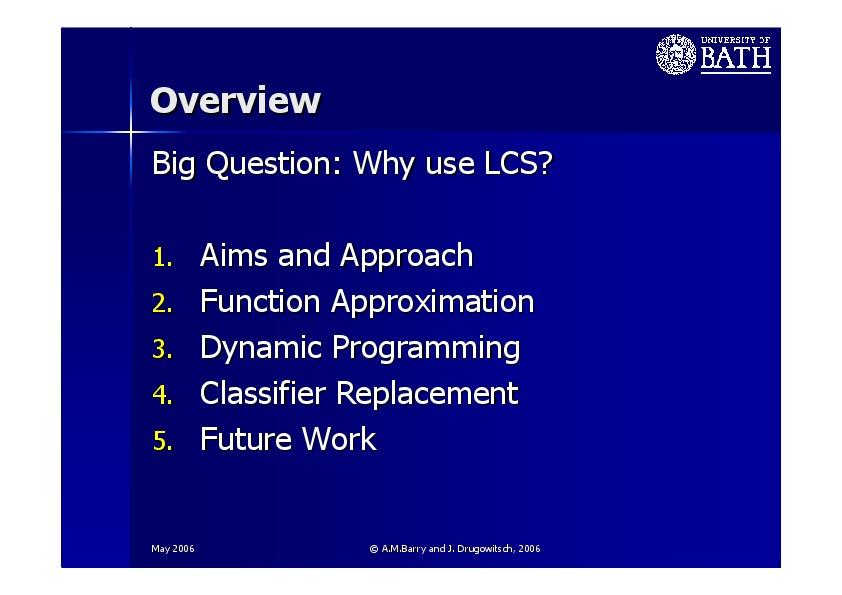paragraph: (140, 142, 601, 483)
title: (144, 71, 337, 127)
